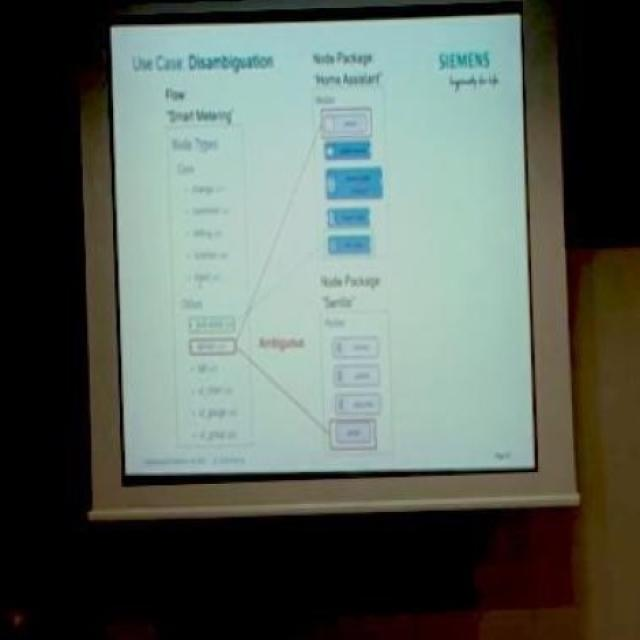Slide: (116, 9, 540, 479)
